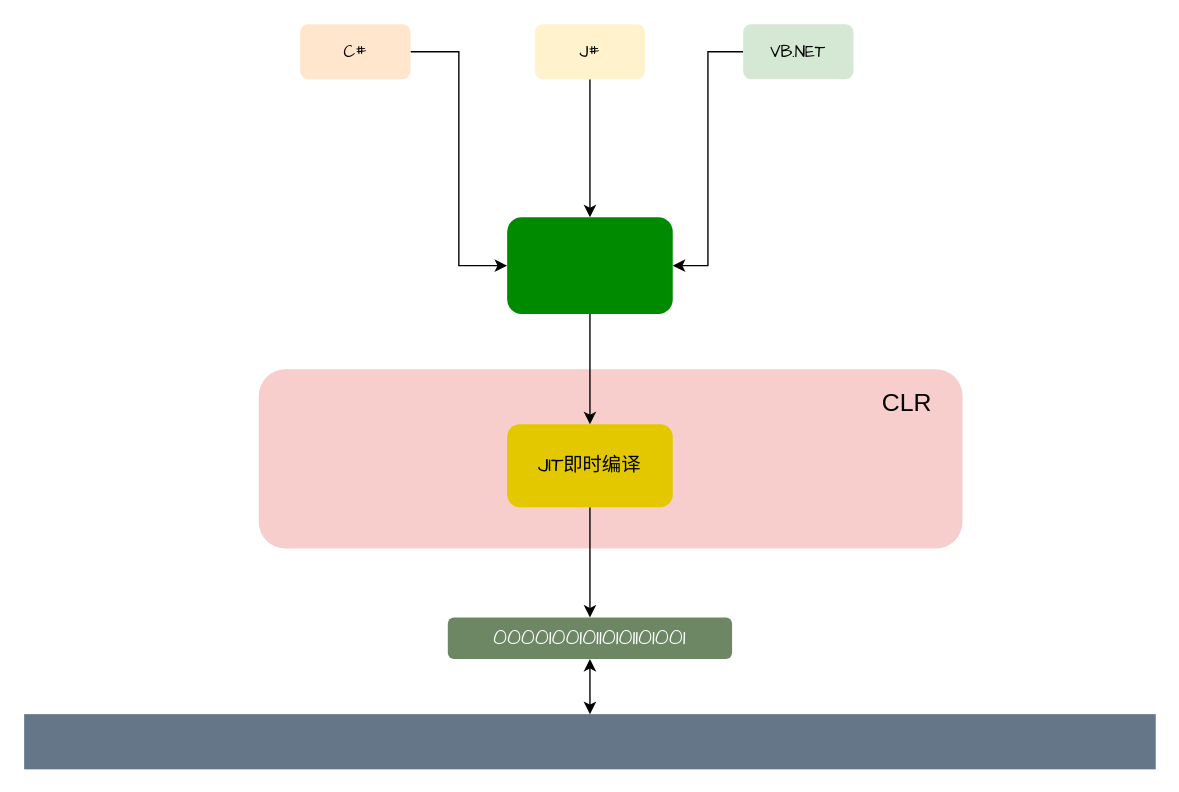
Some shapes in this 1179 by 792 pixel diagram are drawn without their labels. Each missing label, with the centre of its shape:
"CIL" goes at point (589, 265).
"OS" goes at point (589, 741).
